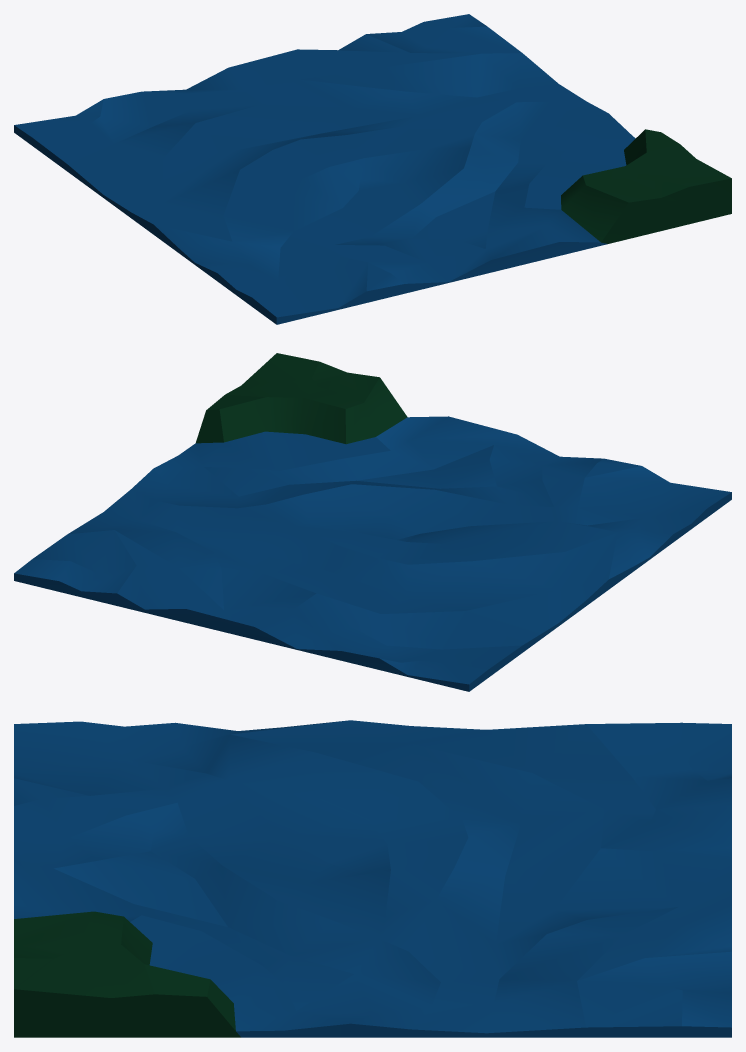
File: Water_Corner_External_RB.fbx
3 renders of one model, top to bottom at view 1: azimuth 30°, elevation 25°; view 2: azimuth 150°, elevation 25°; view 3: azimuth 270°, elevation 25°, orthographic. The views are drawn at different scales.
Visible parts, largest first — view 1: Water_Corner_External_RB; view 2: Water_Corner_External_RB; view 3: Water_Corner_External_RB.
Part boxes in pixels (x1,y1,x2,y2): Water_Corner_External_RB: (14,14,731,324); Water_Corner_External_RB: (14,353,731,691); Water_Corner_External_RB: (14,720,731,1037).
Bounding box in the file's own units: 147 × 11.81 × 147.
